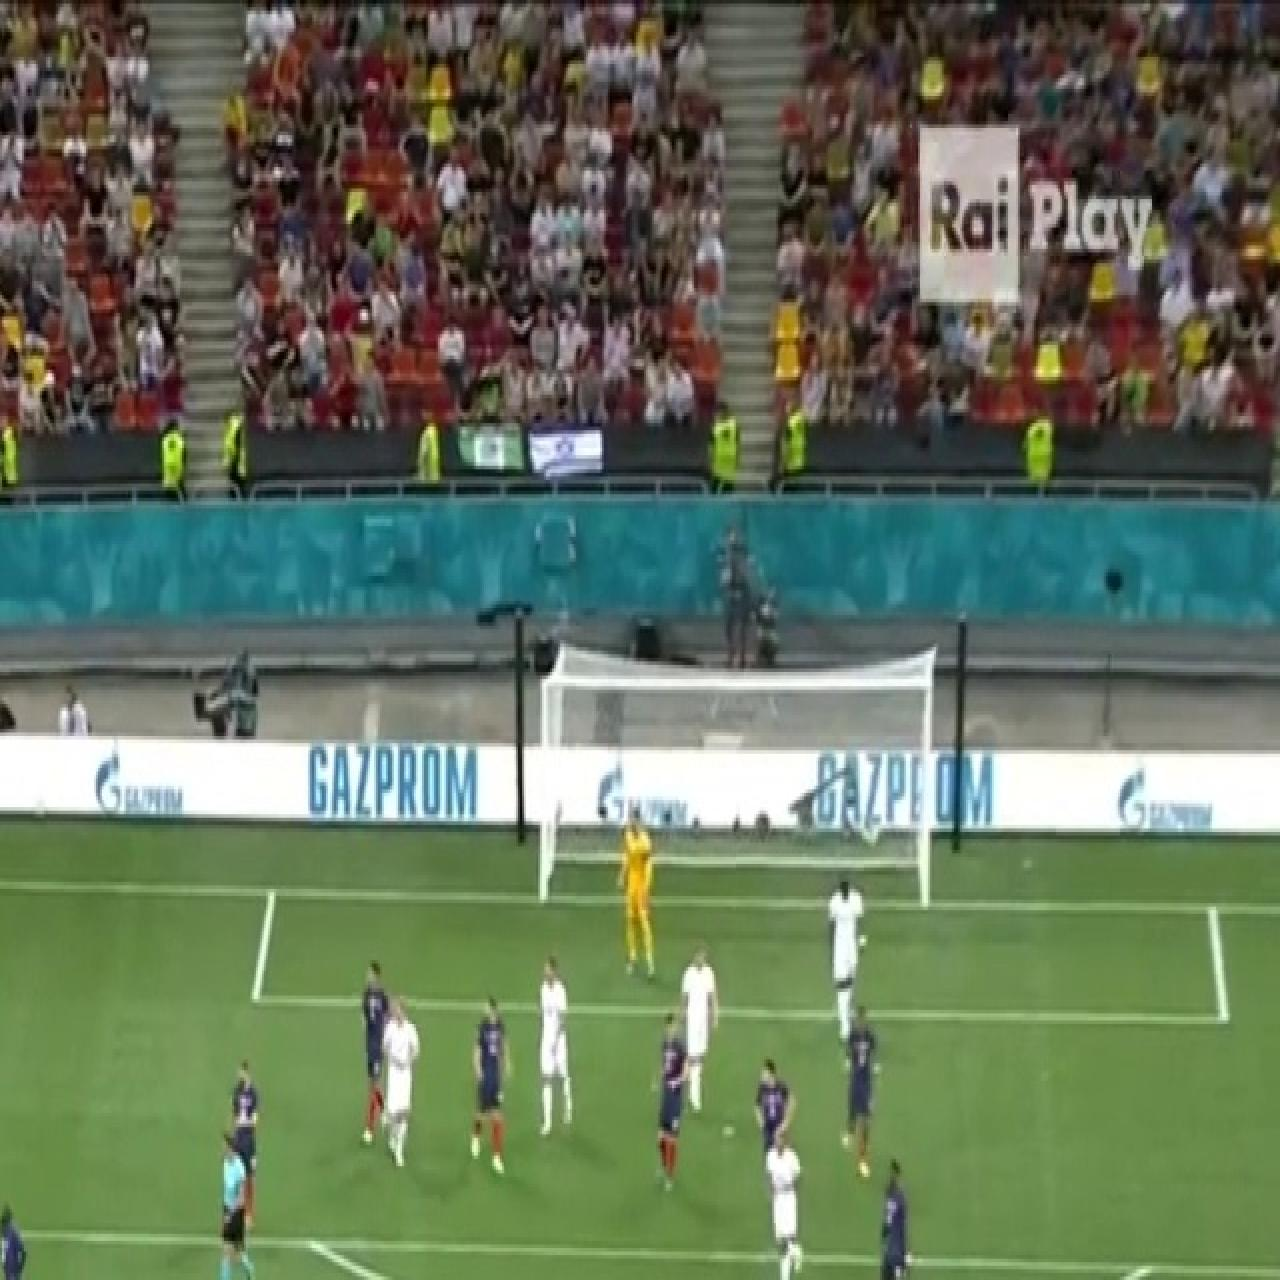football: (470, 995, 514, 1179), (535, 957, 577, 1139), (826, 869, 869, 1046), (355, 959, 394, 1150), (379, 996, 421, 1170), (616, 807, 657, 983), (650, 1006, 688, 1194), (841, 1006, 881, 1183), (679, 942, 719, 1108), (754, 1059, 796, 1204), (216, 1127, 254, 1280), (764, 1127, 802, 1280), (229, 1059, 261, 1232), (876, 1155, 910, 1280), (0, 1198, 50, 1280)
